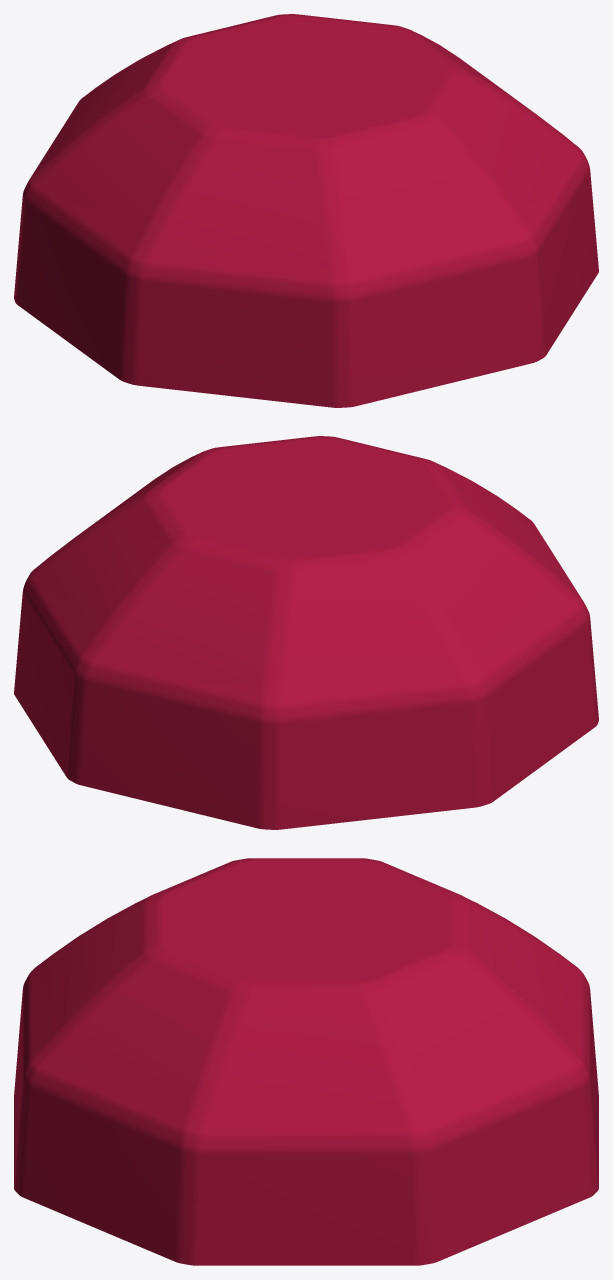
The model's file is Gem (1).fbx.
3 views of the same model, one above another, from view 1: azimuth 30°, elevation 25°; view 2: azimuth 150°, elevation 25°; view 3: azimuth 270°, elevation 25° (orthographic). The views are drawn at different scales.
Visible parts, largest first — view 1: Plane.008; view 2: Plane.008; view 3: Plane.008.
Part boxes in pixels (x1,y1,x2,y2): Plane.008: [14, 14, 598, 407]; Plane.008: [14, 436, 598, 829]; Plane.008: [14, 858, 598, 1265].
Size of the model in its own units: 2.06 by 0.8595 by 2.06.
